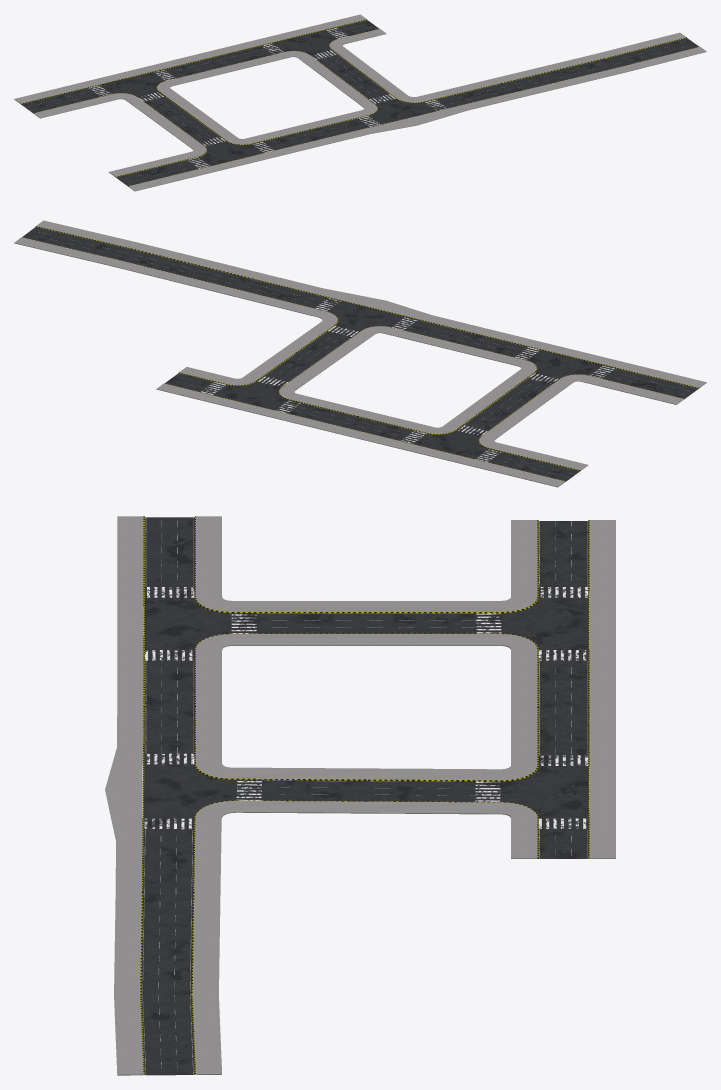
File: Carribean_Boys_Road_fixed.glb
3 renders of one model, top to bottom at view 1: azimuth 30°, elevation 25°; view 2: azimuth 150°, elevation 25°; view 3: azimuth 270°, elevation 25°, orthographic. The views are drawn at different scales.
Parts seen in each view (by area): view 1: Carribean Boys Road_side_walk_1, Carribean Boys Road_road1, Carribean Boys Road_crub_1, Carribean Boys Road_CROSS_WALK; view 2: Carribean Boys Road_side_walk_1, Carribean Boys Road_road1, Carribean Boys Road_crub_1, Carribean Boys Road_CROSS_WALK; view 3: Carribean Boys Road_road1, Carribean Boys Road_side_walk_1, Carribean Boys Road_crub_1, Carribean Boys Road_CROSS_WALK, Carribean Boys Road_road_lines_1.
Part boxes in pixels (bbox=[...]): Carribean Boys Road_side_walk_1: bbox=[14, 14, 706, 191]; Carribean Boys Road_road1: bbox=[21, 20, 698, 185]; Carribean Boys Road_crub_1: bbox=[21, 19, 699, 186]; Carribean Boys Road_CROSS_WALK: bbox=[89, 28, 446, 168]; Carribean Boys Road_side_walk_1: bbox=[14, 220, 706, 487]; Carribean Boys Road_road1: bbox=[22, 227, 697, 481]; Carribean Boys Road_crub_1: bbox=[22, 226, 699, 481]; Carribean Boys Road_CROSS_WALK: bbox=[201, 298, 614, 462]; Carribean Boys Road_road1: bbox=[141, 517, 588, 1075]; Carribean Boys Road_side_walk_1: bbox=[105, 516, 615, 1075]; Carribean Boys Road_crub_1: bbox=[140, 516, 589, 1074]; Carribean Boys Road_CROSS_WALK: bbox=[144, 587, 588, 829]; Carribean Boys Road_road_lines_1: bbox=[142, 517, 587, 1074].
Size of what is drawn, in the model's own units: 239 by 0.1677 by 92.51.
5 materials, 5 textured.
